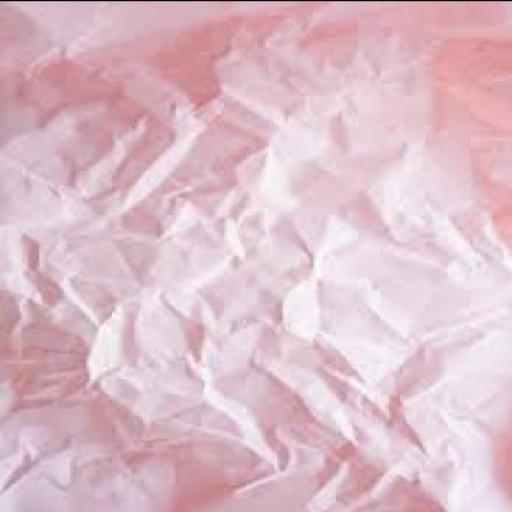paper: (0, 1, 511, 511)
